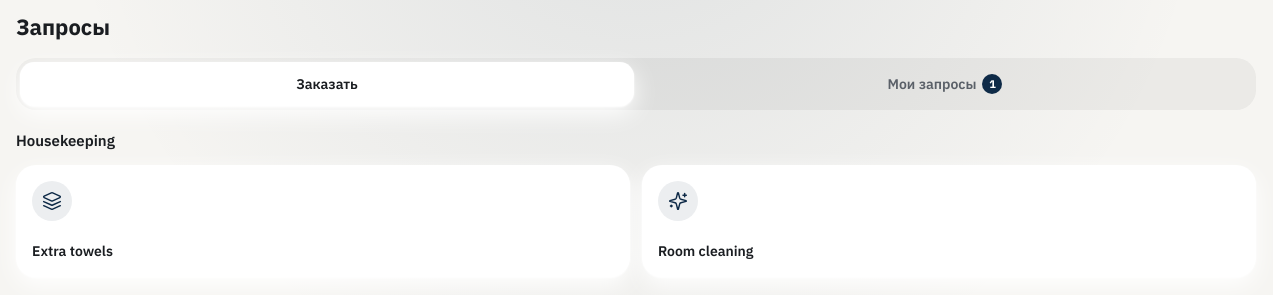
My requests (15.3) › AC4 — the Russian bundle renders the status chips
The image size is (1273, 295).
What coordinates should you click on to do the following:
click the tab "Мои запросы 1"
I would click on:
 (945, 84)
Its box is [638,62,1252,106].
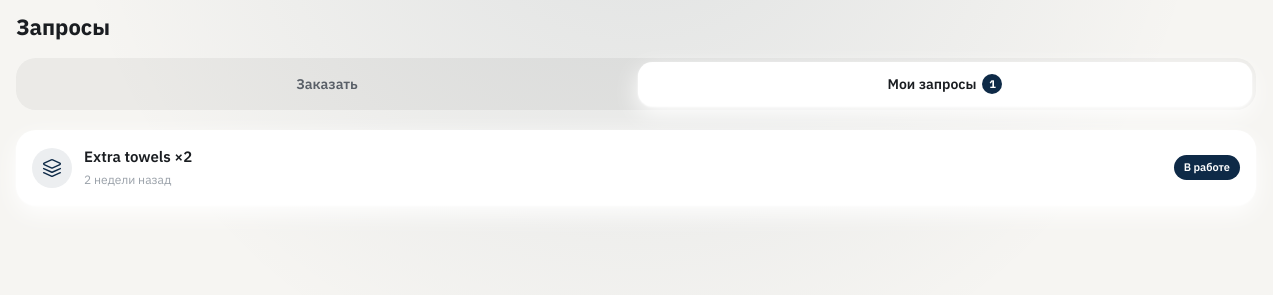
Now the text "В работе" is shown, box [1174,155,1240,180]
